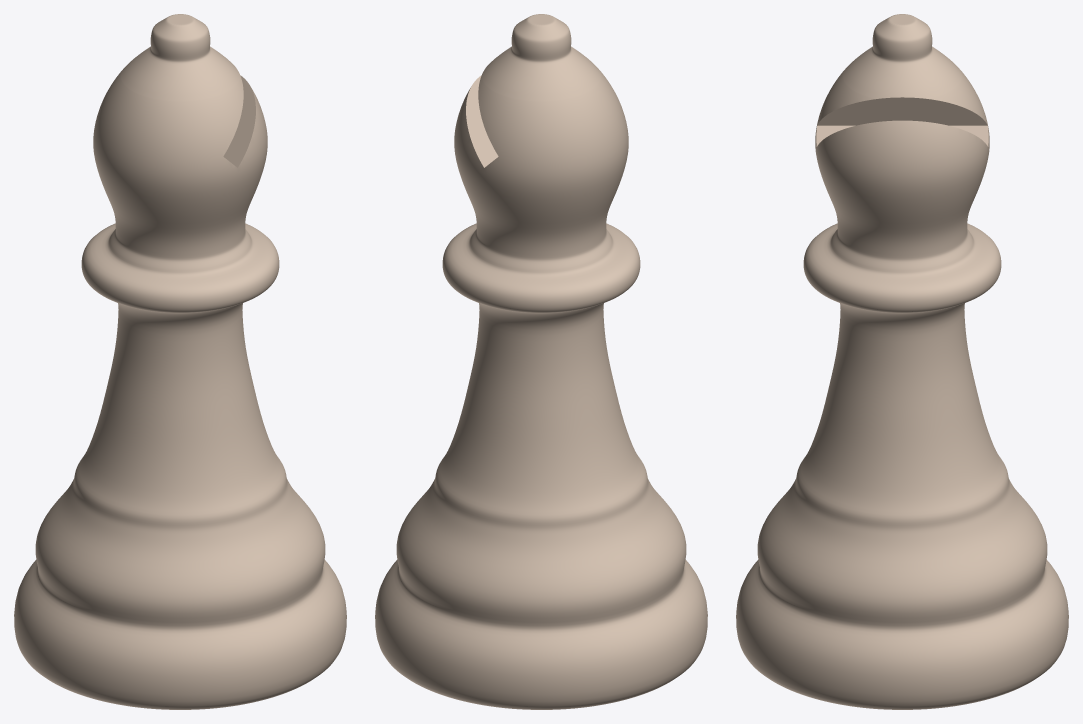
The model's file is white_bishop.glb.
3 renders of one model, left to right at view 1: azimuth 30°, elevation 25°; view 2: azimuth 150°, elevation 25°; view 3: azimuth 270°, elevation 25°, orthographic.
Visible parts, largest first — view 1: αξιωματικός.003; view 2: αξιωματικός.003; view 3: αξιωματικός.003.
Part boxes in pixels (left/top/right/bottom): αξιωματικός.003: left=14, top=14, right=346, bottom=709; αξιωματικός.003: left=375, top=14, right=707, bottom=709; αξιωματικός.003: left=736, top=14, right=1068, bottom=709.
Bounding box in the file's own units: 2.87 × 5.96 × 2.87.
